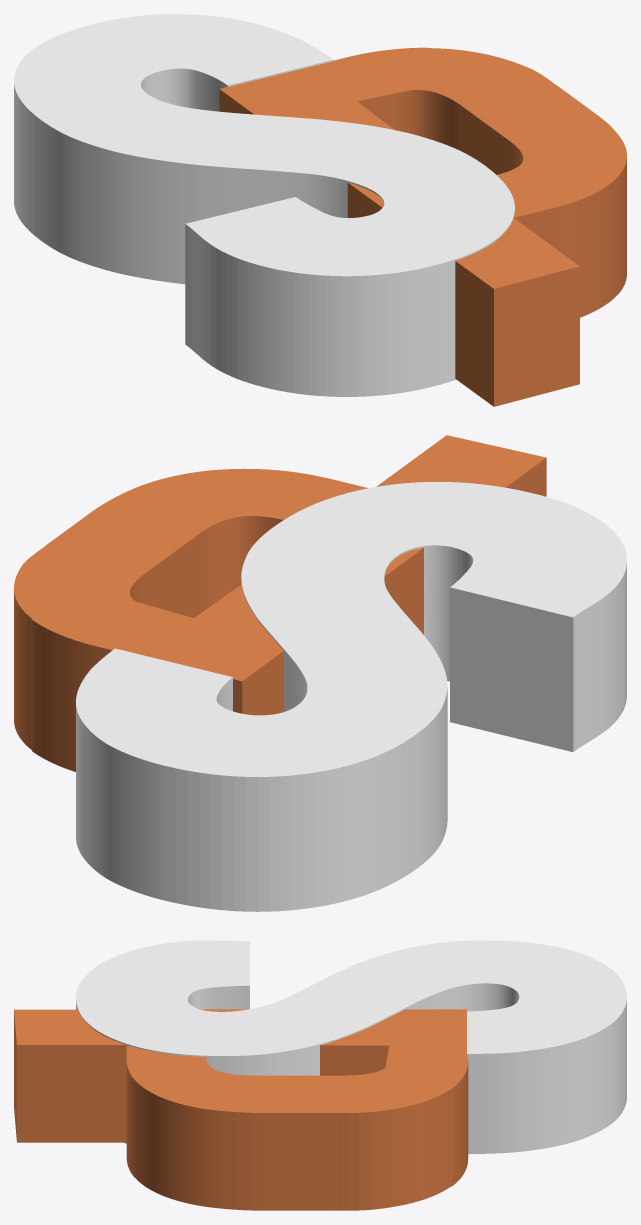
Rendered from check.glb.
3 views of the same model, one above another, from view 1: azimuth 30°, elevation 25°; view 2: azimuth 150°, elevation 25°; view 3: azimuth 270°, elevation 25° (orthographic). The views are drawn at different scales.
Visible parts, largest first — view 1: Text, Text.001; view 2: Text, Text.001; view 3: Text.001, Text.
Boxes of the visible parts, bbox=[...] form: Text: bbox=[14, 14, 514, 396]; Text.001: bbox=[219, 47, 626, 406]; Text: bbox=[76, 482, 626, 911]; Text.001: bbox=[14, 435, 546, 771]; Text.001: bbox=[14, 1009, 468, 1210]; Text: bbox=[76, 940, 626, 1153].
Size of the model in its own units: 2.21 by 0.6018 by 3.34.
